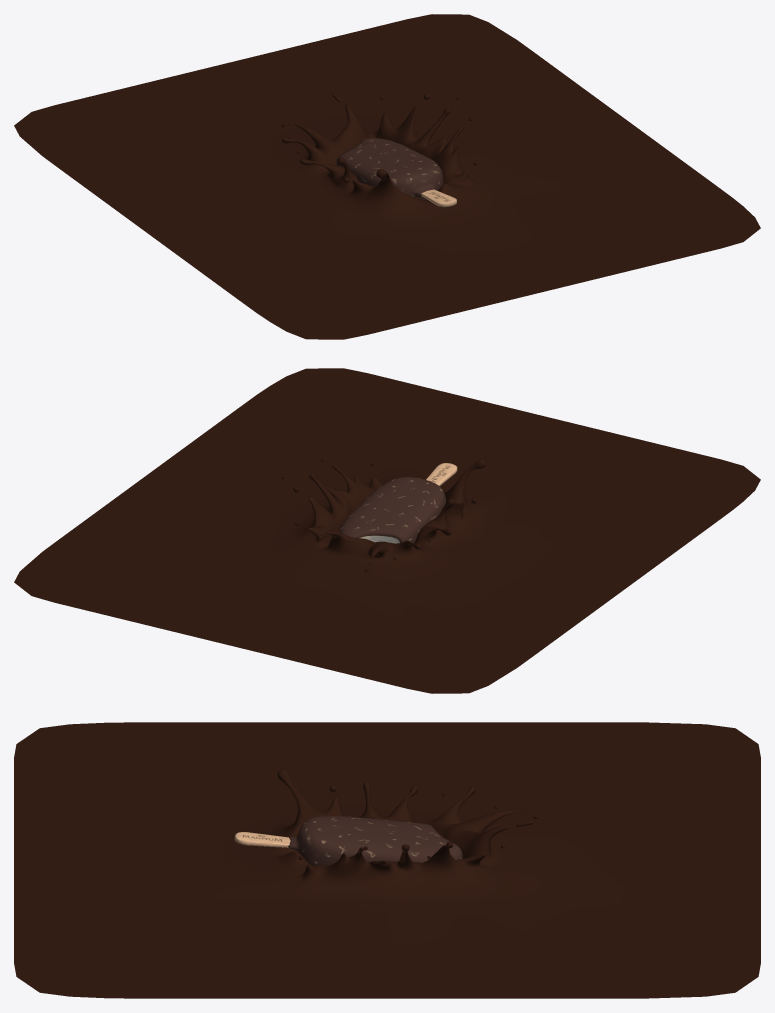
Rendered from chocolate_ice_cream.glb.
The picture shows the model from 3 angles, top to bottom: view 1: azimuth 30°, elevation 25°; view 2: azimuth 150°, elevation 25°; view 3: azimuth 270°, elevation 25°; orthographic projection. The views are drawn at different scales.
Parts seen in each view (by area): view 1: chocolate, iceCream; view 2: chocolate, iceCream; view 3: chocolate, iceCream, stick.
Part boxes in pixels (x1,y1,x2,y2): chocolate: (14,14,760,339); iceCream: (336,138,443,201); chocolate: (14,368,760,693); iceCream: (339,477,445,543); chocolate: (14,722,760,998); iceCream: (288,816,462,865); stick: (234,832,290,847).
Size of the model in its own units: 1.97 by 0.275 by 2.25.
Materials: 2 (1 with a texture image).
